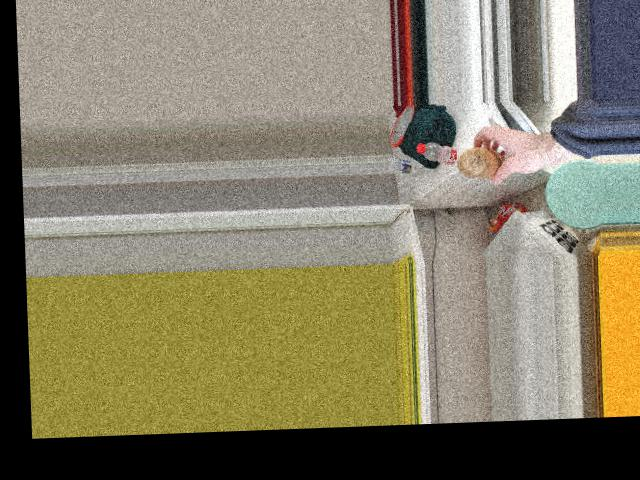sweet_potato: (458, 138, 511, 182)
